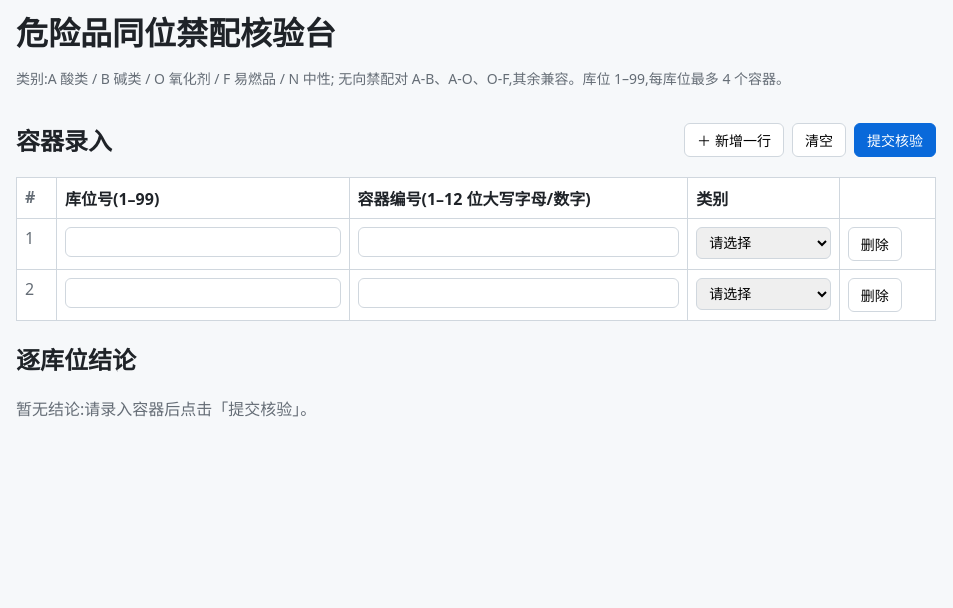
it: App 核验台交互 › 422 时清除旧结论并标出对应行
The image size is (953, 608).
Type "1" into the field with test id "slot-0".
click(203, 242); type("1")  # box 65,227 -> 340,257
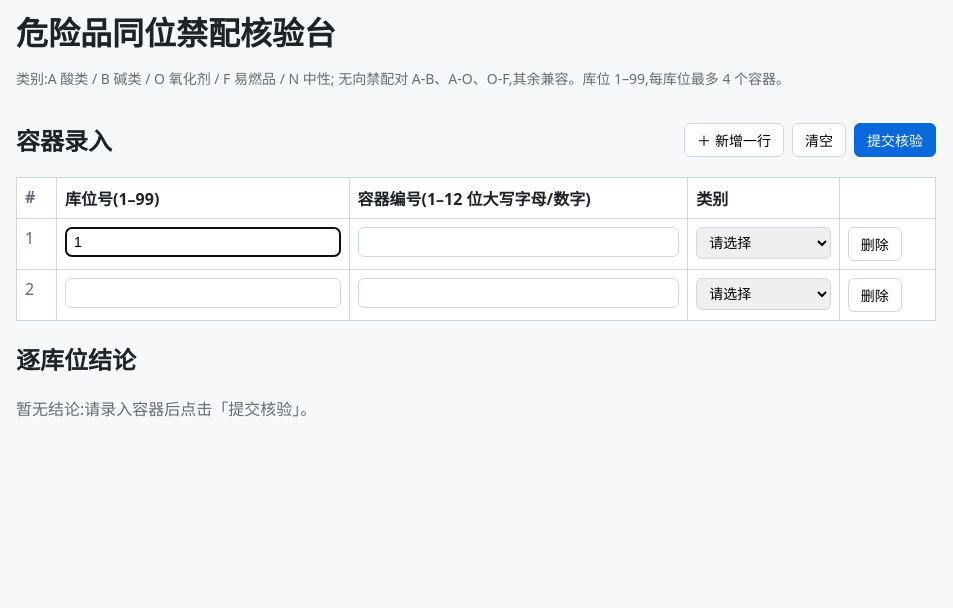
Type "N1" into the field with test id "container-0".
click(518, 242); type("N1")  # box 358,227 -> 679,257
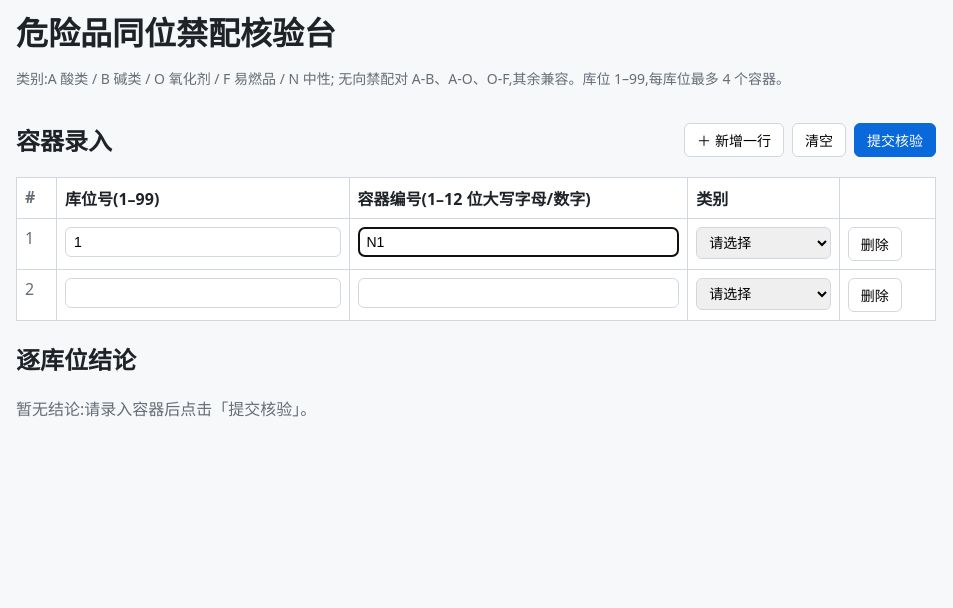
Select "N 中性" in the dropdown with test id "category-0" at (764, 243), box 696,227 -> 831,259
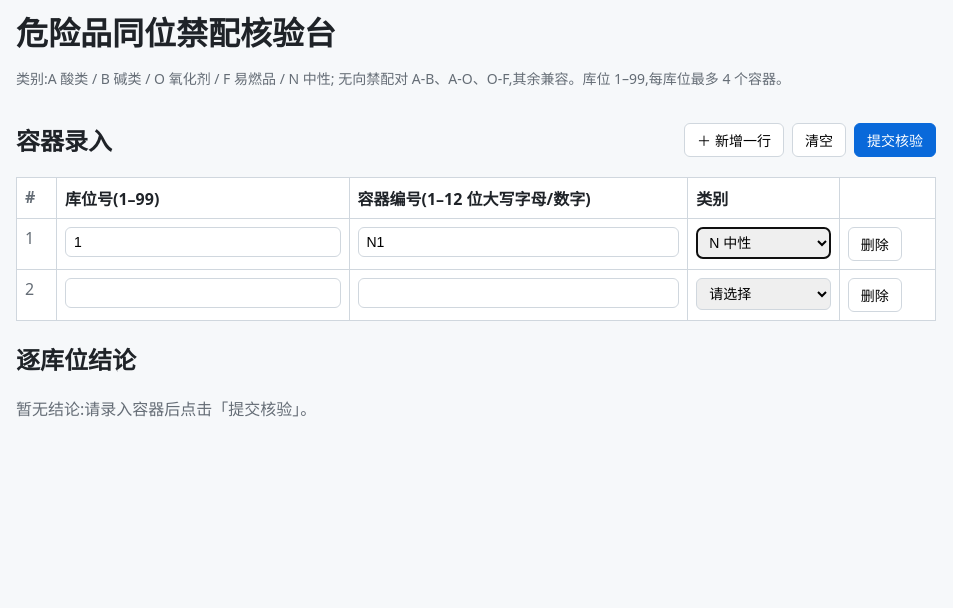
Click the button with test id "submit".
click(895, 140)  # box 854,123 -> 936,157
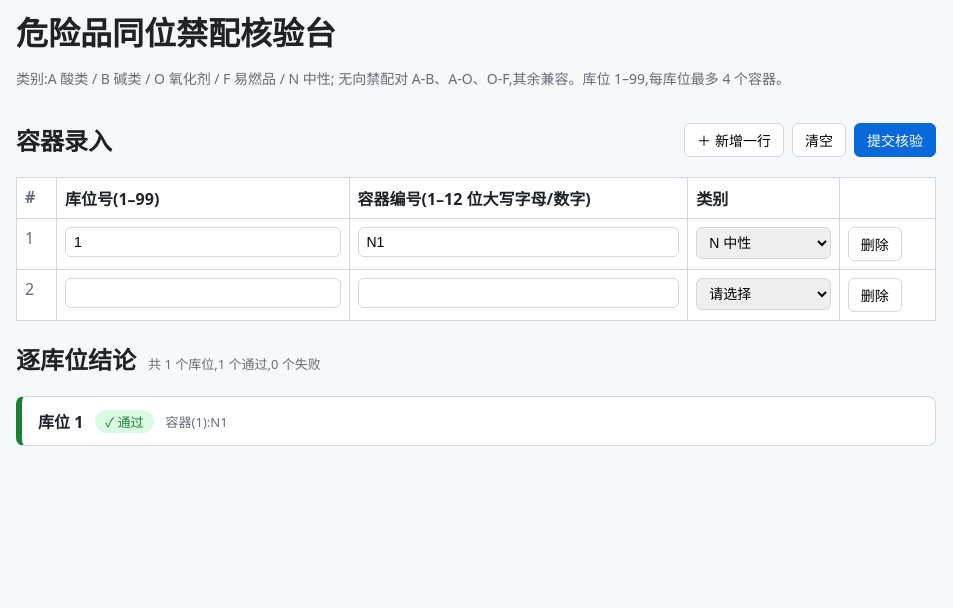
Now the list item with test id "slot-result-1" is shown, box 16,396 -> 936,446
Click the button with test id "add-row".
click(734, 140)  # box 684,123 -> 784,157
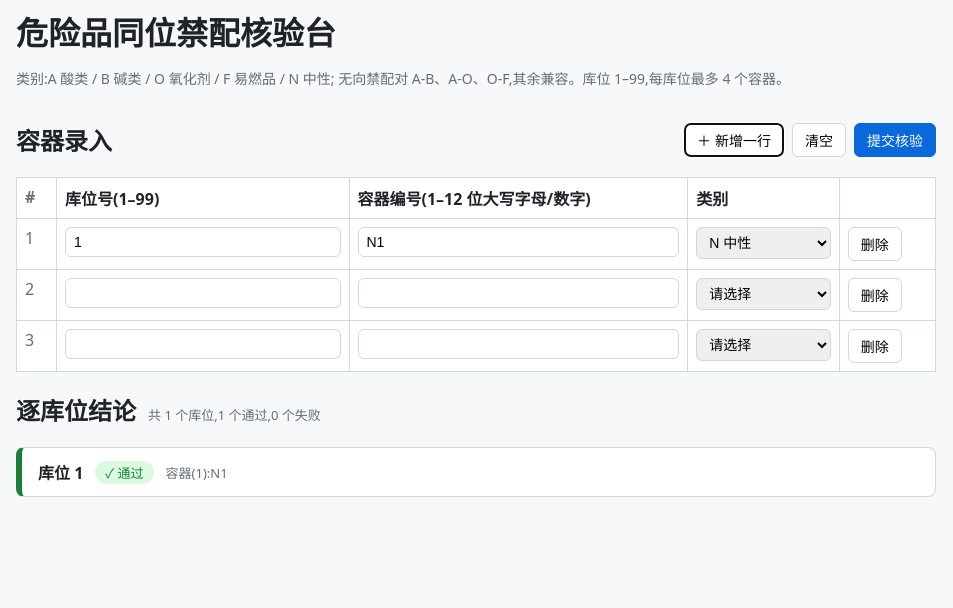
Click the button with test id "submit".
click(895, 140)  # box 854,123 -> 936,157
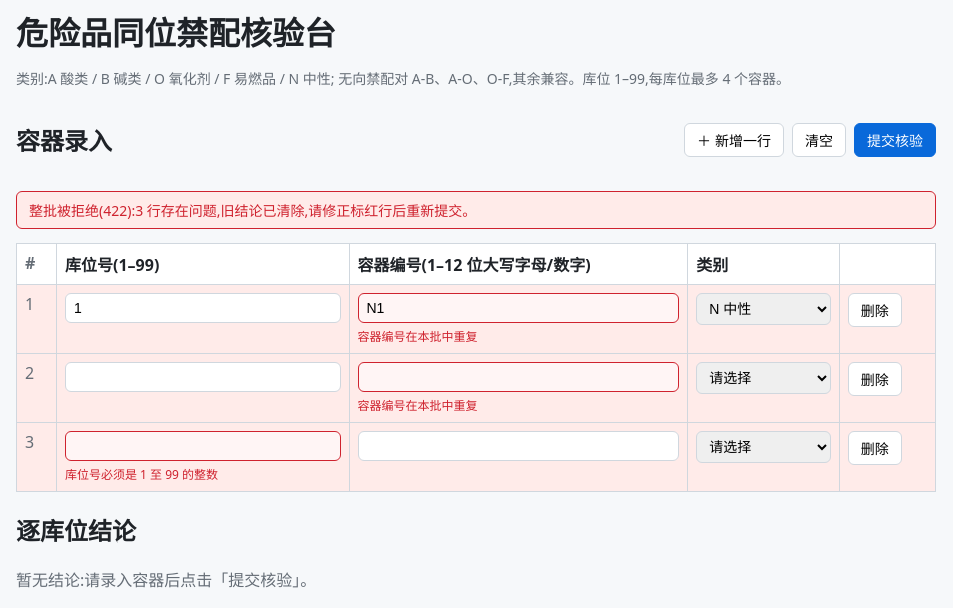
Now the list item with test id "slot-result-1" is gone
Now the text "暂无结论:请录入容器后点击「提交核验」。" is shown, box 16,569 -> 316,591
Now the message with test id "batch-banner" shows "整批被拒绝(422)", box 29,201 -> 135,220
